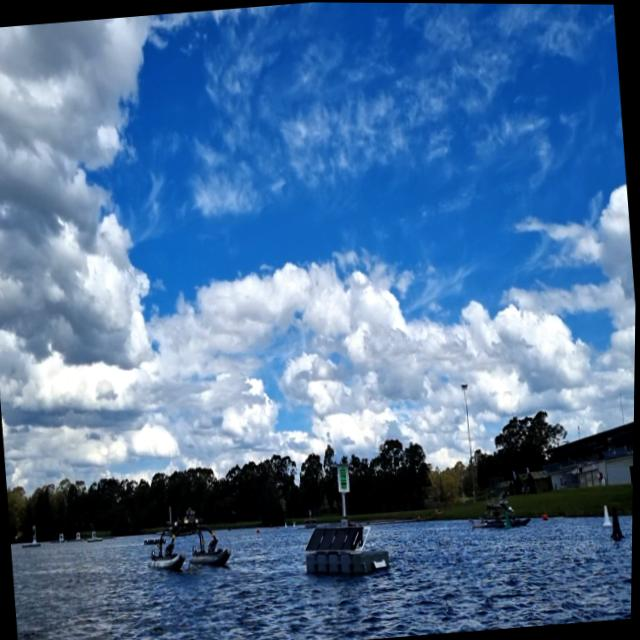led: (338, 464, 350, 490)
